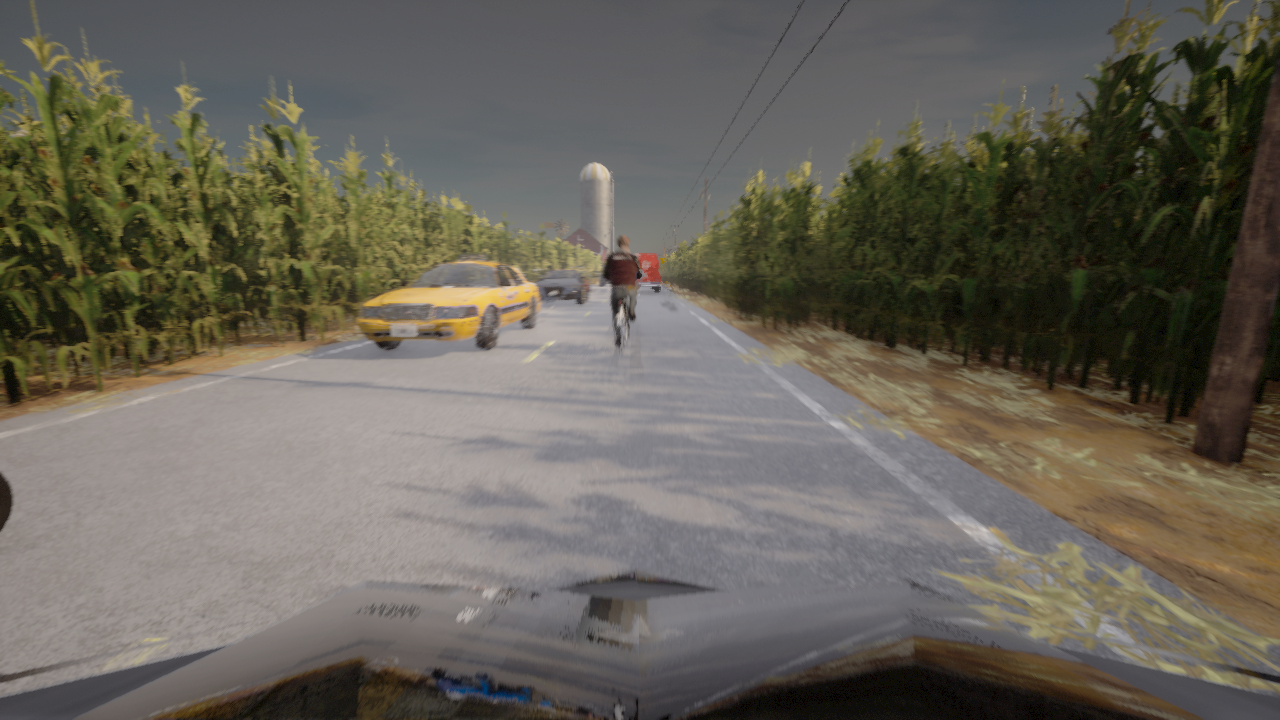cyclist: (0, 569, 1279, 719), (356, 253, 540, 350), (533, 269, 589, 304), (615, 299, 635, 355), (636, 254, 660, 291), (600, 274, 610, 285)
